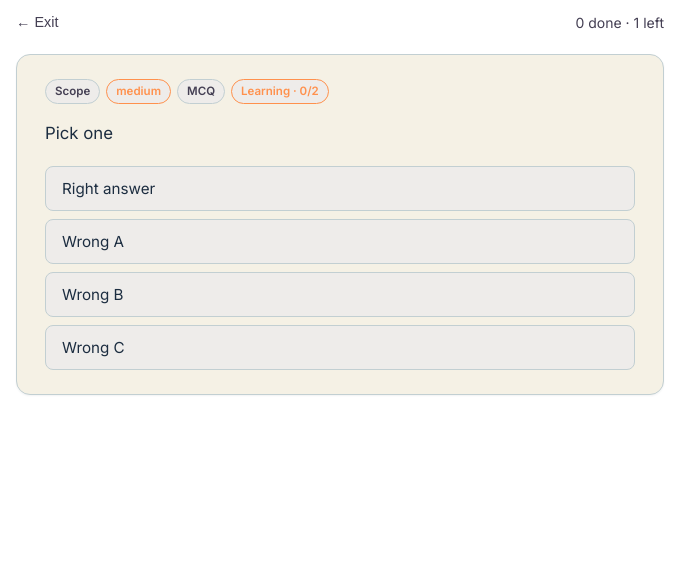
Test: MCQCard › picking the right option shows ✓ Correct
The image size is (681, 582).
What coordinates should you click on to do the following:
click the button "Right answer"
I would click on:
 (109, 188)
Its box is left=45, top=166, right=635, bottom=211.
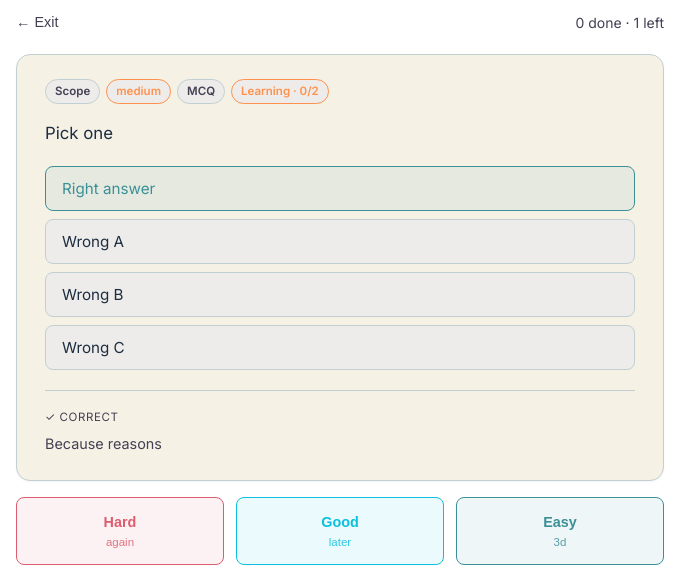
Expected: the text "✓ Correct" is shown, left=45, top=410, right=118, bottom=424
